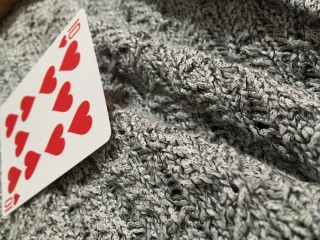TenOfHearts: (1, 8, 113, 218)
